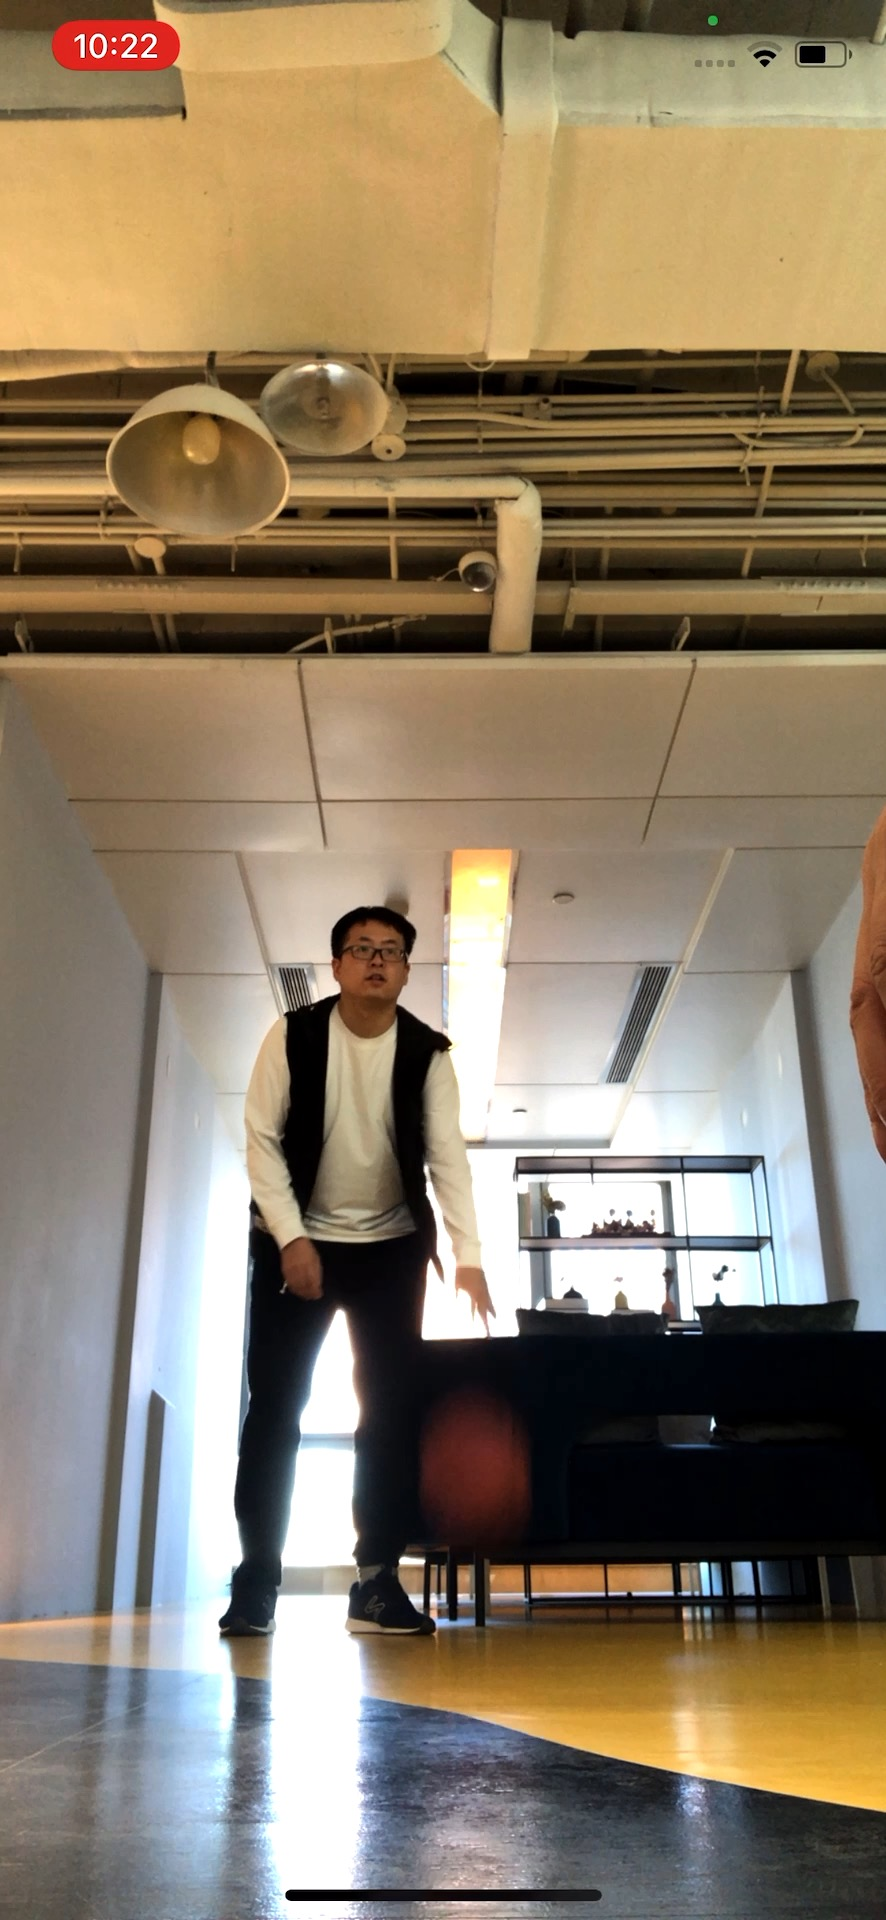ball: (419, 1416, 529, 1521)
